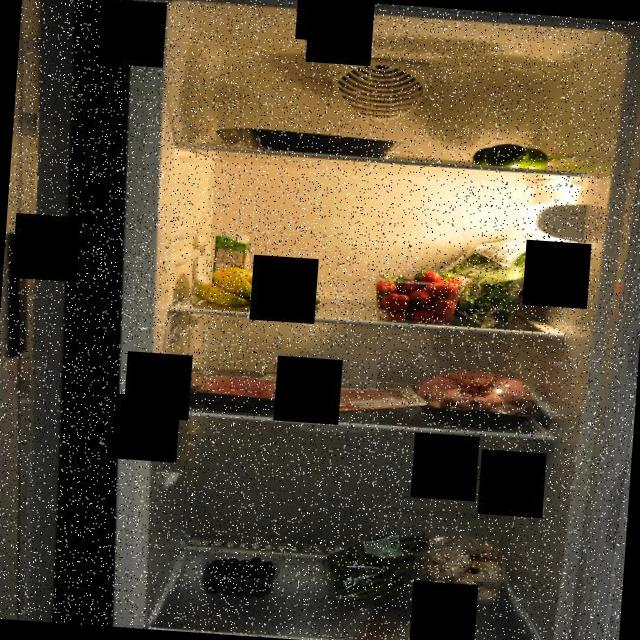Carne cerdo: (292, 382, 402, 421)
Carne pollo: (407, 362, 545, 432)
Carne vacuno: (186, 364, 293, 412)
Champiñones: (420, 534, 515, 608)
Plátano: (188, 260, 323, 316)
blueberries: (200, 549, 280, 600)
green_beans: (318, 517, 432, 610)
heavy_cream: (210, 231, 252, 288)
spinach: (433, 229, 562, 333)
strawberries: (370, 263, 466, 325)
